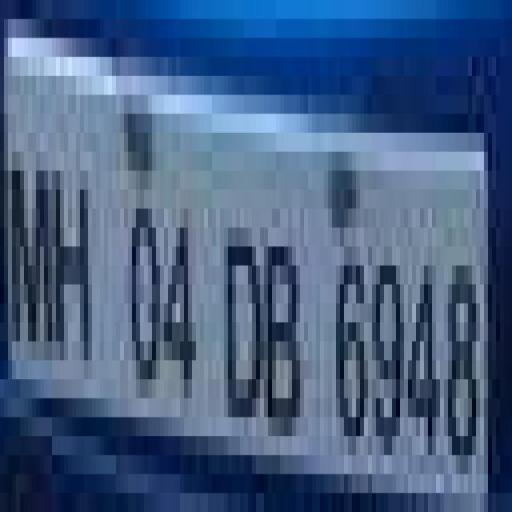number plate: (4, 38, 480, 493)
